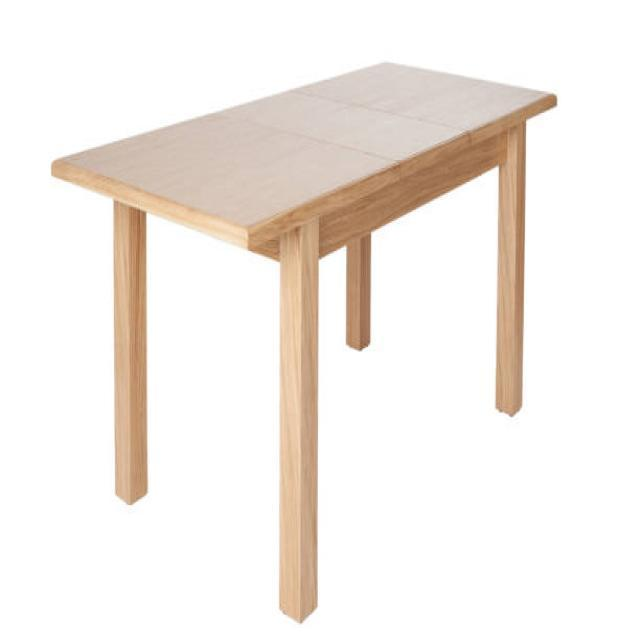table: (50, 58, 558, 623)
